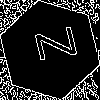Z: (25, 25, 78, 66)
